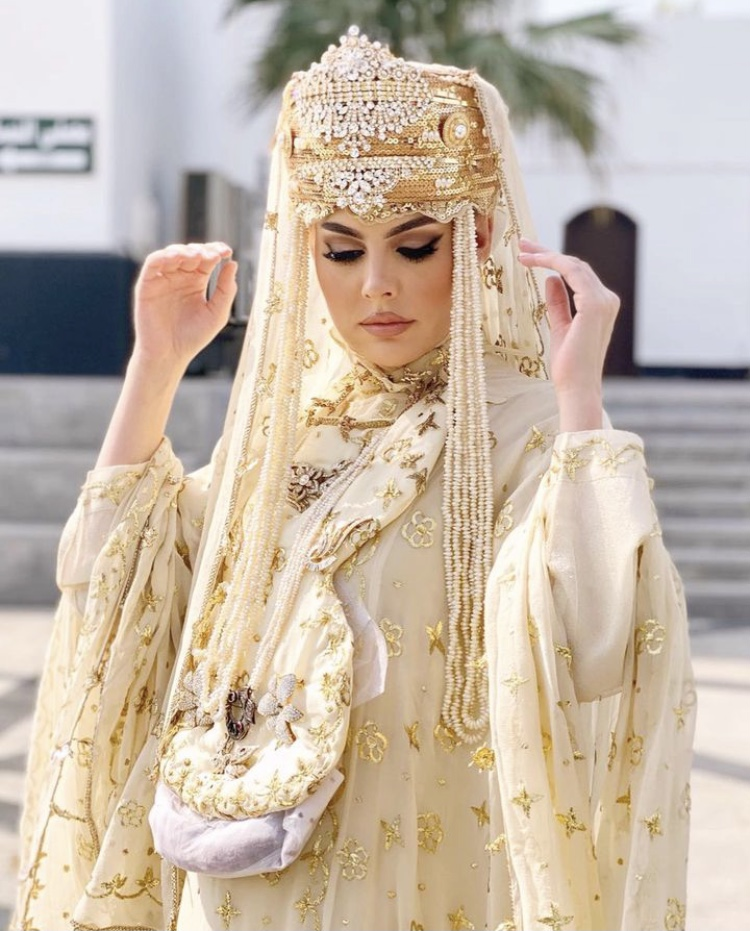Saudi_Founding_Day: (12, 23, 698, 931)
